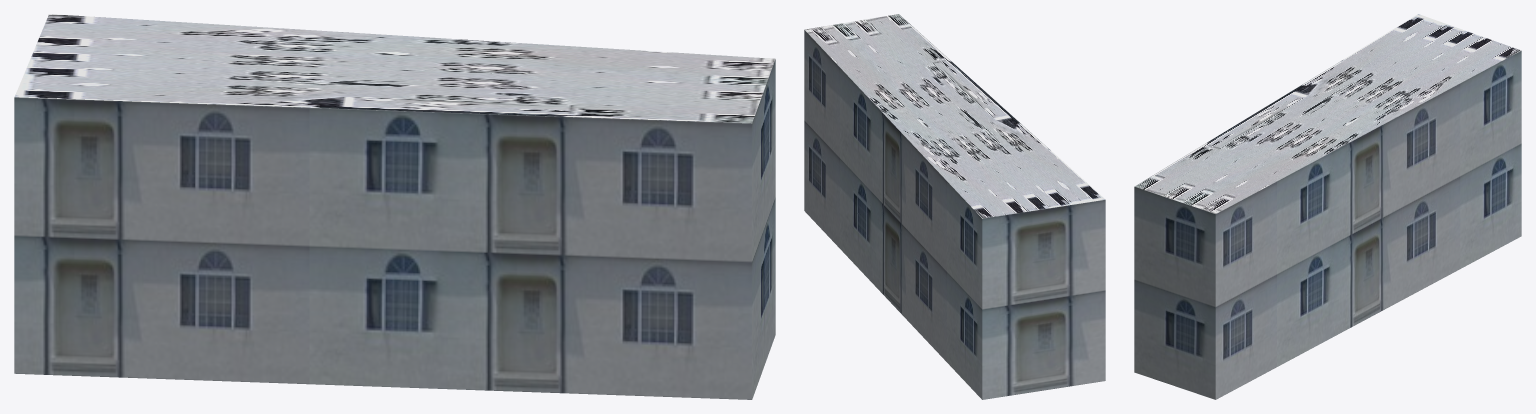
File: ResTex__194.fbx
3 views of the same model, side by side, from view 1: azimuth 30°, elevation 25°; view 2: azimuth 150°, elevation 25°; view 3: azimuth 270°, elevation 25° (orthographic). The views are drawn at different scales.
Parts seen in each view (by area): view 1: CityEngineMaterial_17_m, CityEngineMaterial_4_m; view 2: CityEngineMaterial_17_m, CityEngineMaterial_4_m; view 3: CityEngineMaterial_17_m, CityEngineMaterial_4_m.
Part boxes in pixels (x1,y1,x2,y2): CityEngineMaterial_17_m: [14, 59, 775, 399]; CityEngineMaterial_4_m: [14, 14, 775, 123]; CityEngineMaterial_17_m: [804, 30, 1105, 399]; CityEngineMaterial_4_m: [805, 14, 1104, 218]; CityEngineMaterial_17_m: [1134, 50, 1521, 399]; CityEngineMaterial_4_m: [1135, 14, 1520, 213].
Size of the model in its own units: 13.86 by 6 by 11.33.
2 materials, 2 textured.
